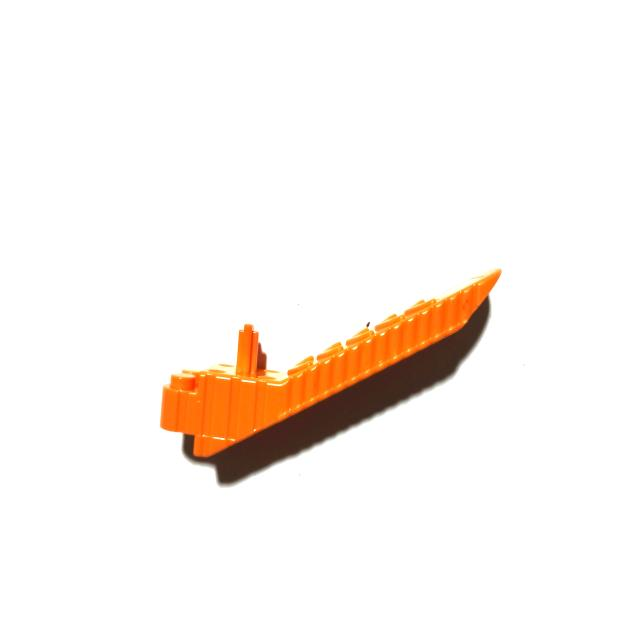Orange_Large: (159, 265, 503, 459)
